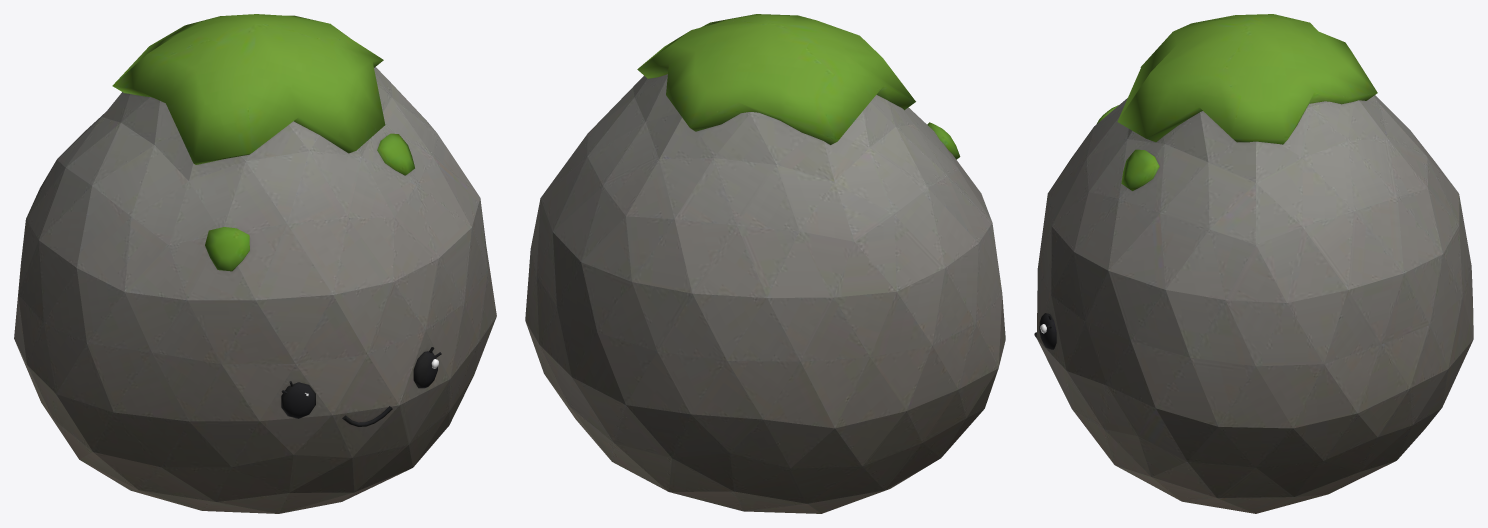
Rendered from rock_grey_2_high.glb.
The picture shows the model from 3 angles, left to right: view 1: azimuth 30°, elevation 25°; view 2: azimuth 150°, elevation 25°; view 3: azimuth 270°, elevation 25°; orthographic projection. The views are drawn at different scales.
Parts seen in each view (by area): view 1: rock_grey_2; view 2: rock_grey_2; view 3: rock_grey_2.
Boxes of the visible parts, <box> form: rock_grey_2: <box>14,14,496,513</box>; rock_grey_2: <box>525,14,1005,513</box>; rock_grey_2: <box>1034,14,1473,513</box>.
Size of the model in its own units: 0.597 by 0.6251 by 0.549.
1 material, 1 textured.
